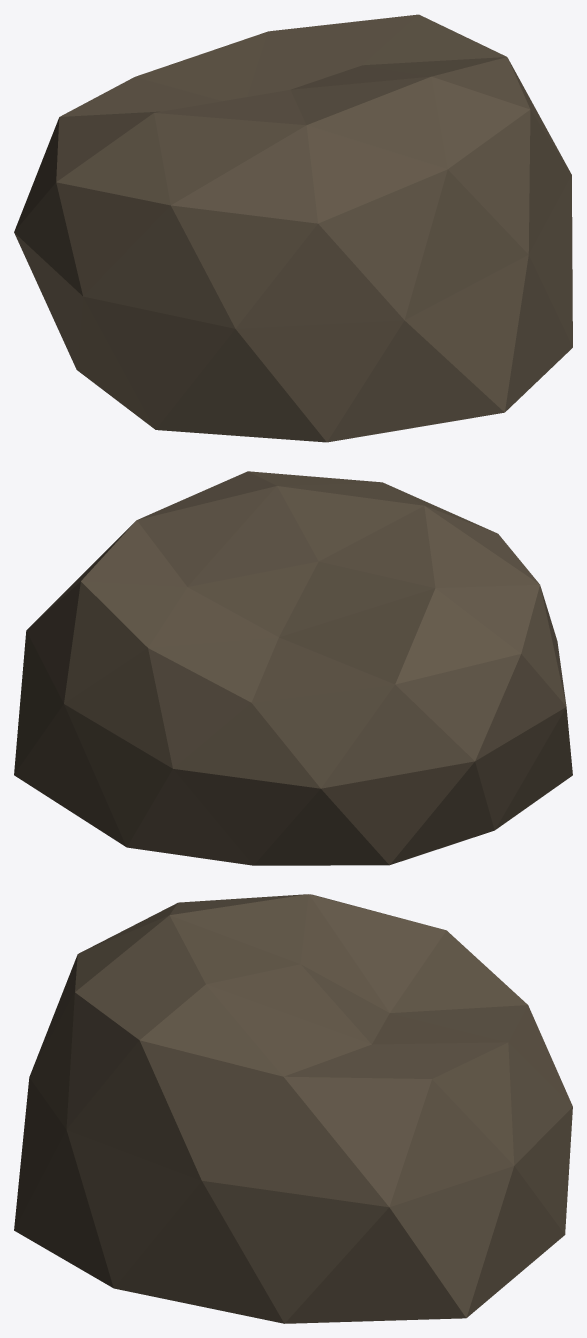
The model's file is roca1.fbx.
3 renders of one model, top to bottom at view 1: azimuth 30°, elevation 25°; view 2: azimuth 150°, elevation 25°; view 3: azimuth 270°, elevation 25°, orthographic. The views are drawn at different scales.
Parts seen in each view (by area): view 1: Icosphere.008; view 2: Icosphere.008; view 3: Icosphere.008.
Boxes of the visible parts, x1=… form: Icosphere.008: x1=14, y1=14, x2=572, y2=442; Icosphere.008: x1=14, y1=471, x2=572, y2=865; Icosphere.008: x1=14, y1=894, x2=572, y2=1323.
Bounding box in the file's own units: 51.53 × 26.39 × 48.75.
